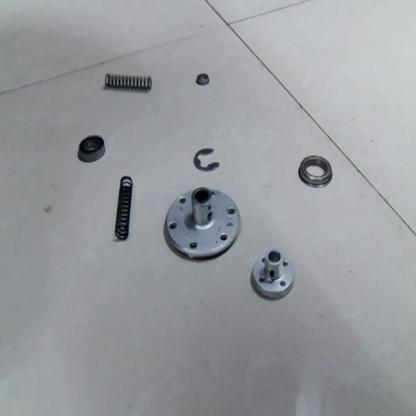FOD: (162, 187, 244, 261), (248, 248, 296, 299), (112, 173, 136, 246), (298, 155, 334, 191), (101, 69, 154, 93), (75, 132, 107, 163), (193, 148, 220, 175), (194, 72, 210, 87)
